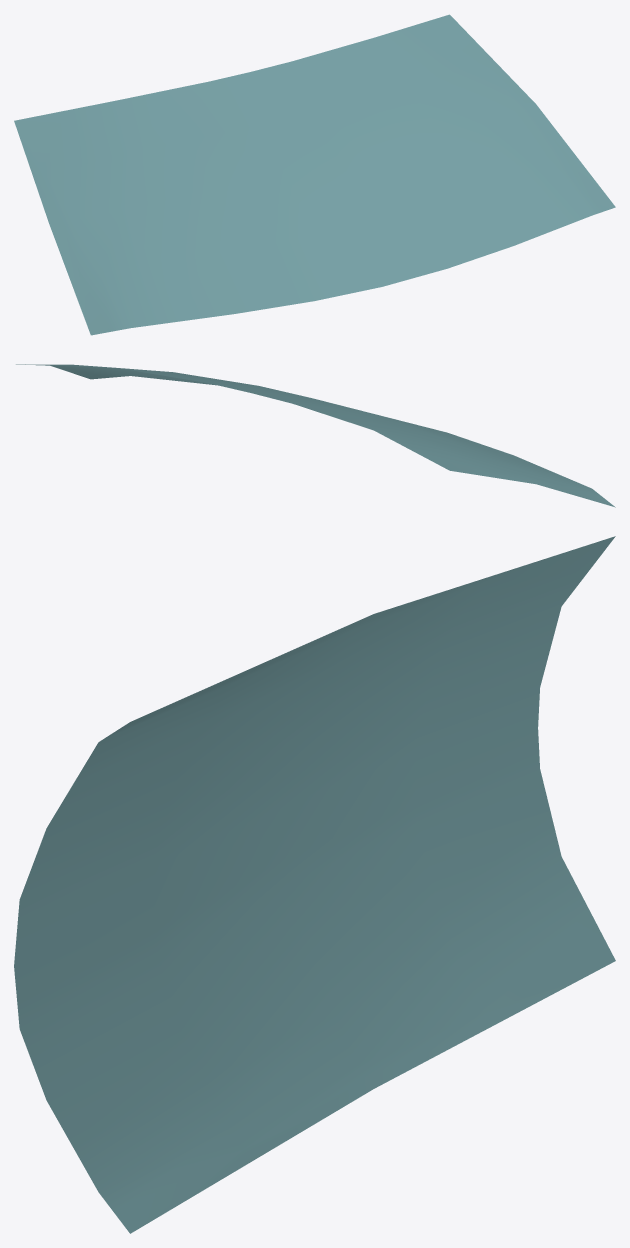
File: Electric_2_Window_Tessellate_F.fbx
3 views of the same model, one above another, from view 1: azimuth 30°, elevation 25°; view 2: azimuth 150°, elevation 25°; view 3: azimuth 270°, elevation 25° (orthographic). The views are drawn at different scales.
Visible parts, largest first — view 1: Electric_2_Window_Tessellate_F; view 2: Electric_2_Window_Tessellate_F; view 3: Electric_2_Window_Tessellate_F.
Boxes of the visible parts, x1,y1,x2,y2 form: Electric_2_Window_Tessellate_F: (14, 14, 615, 335); Electric_2_Window_Tessellate_F: (16, 364, 615, 507); Electric_2_Window_Tessellate_F: (14, 536, 615, 1233).
Size of the model in its own units: 152 by 34.62 by 75.63.
